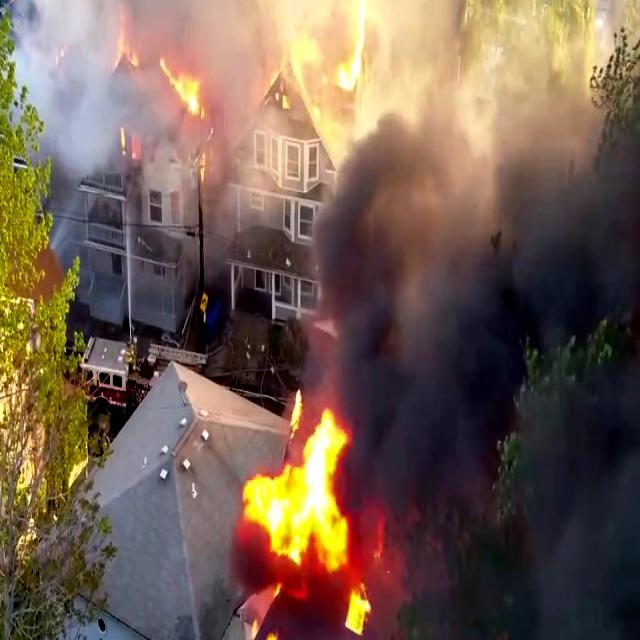fire: (228, 392, 366, 567)
